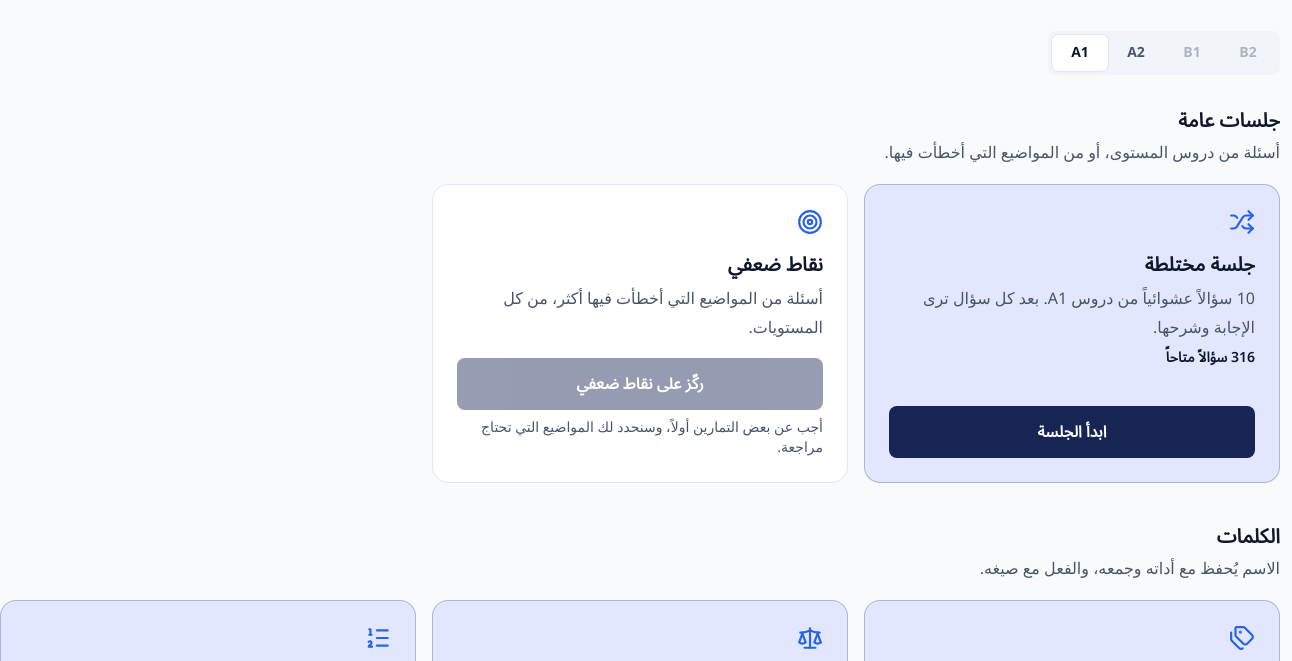
Test case: PracticePage › keeps the dates drill for A2, and says why it cannot start at A1
Step 1. Click the tab "A2" → click(1136, 53), box [1108,35,1164,71]
(page scrolled)
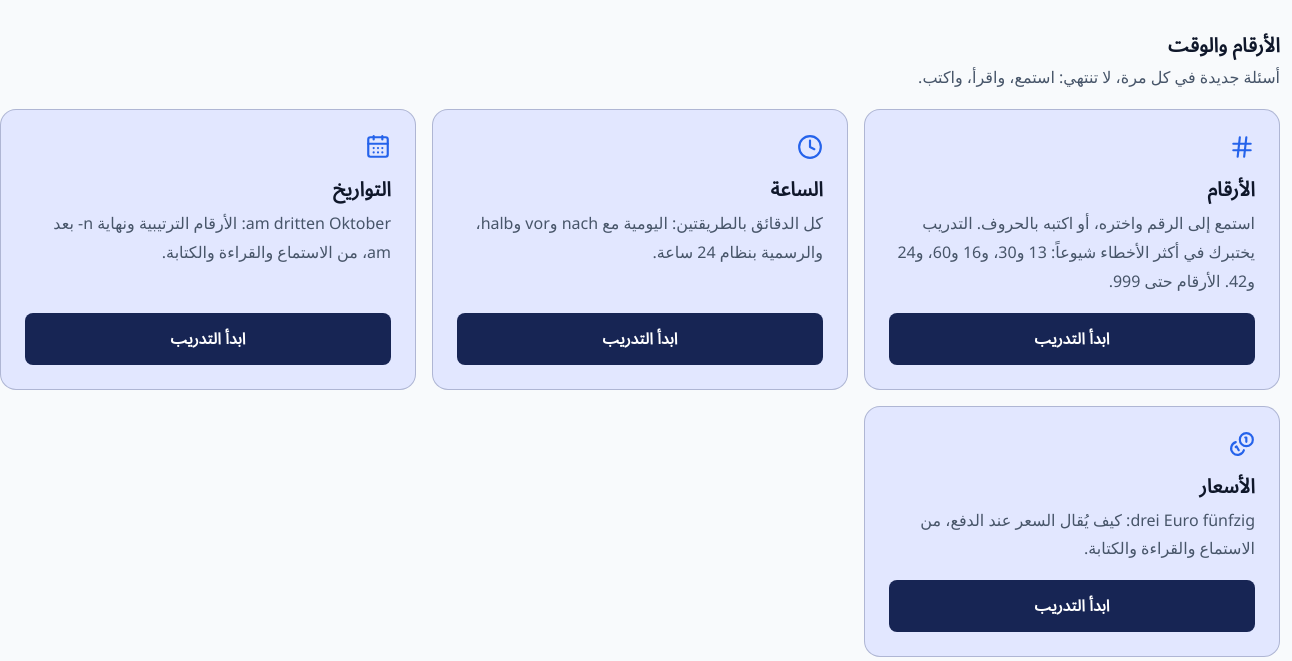
Now the button with aria-label "ابدأ التدريب: التواريخ" is enabled, box [25,313,391,365]
